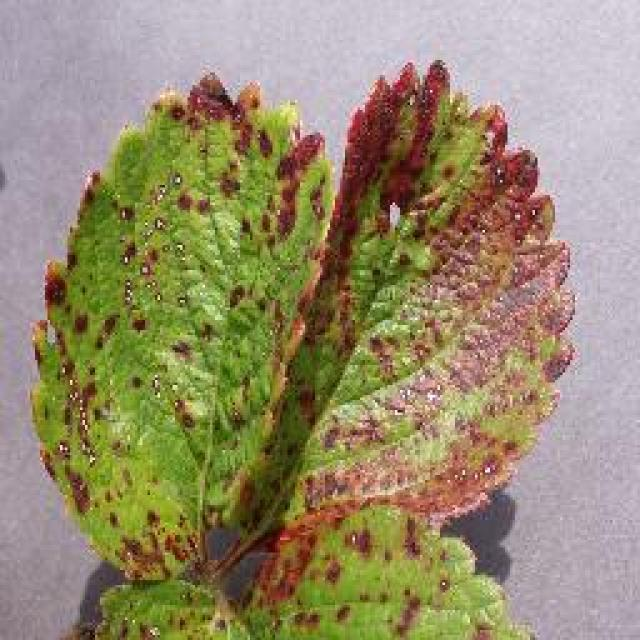Strawberry leaf scorch: (85, 60, 502, 517)
